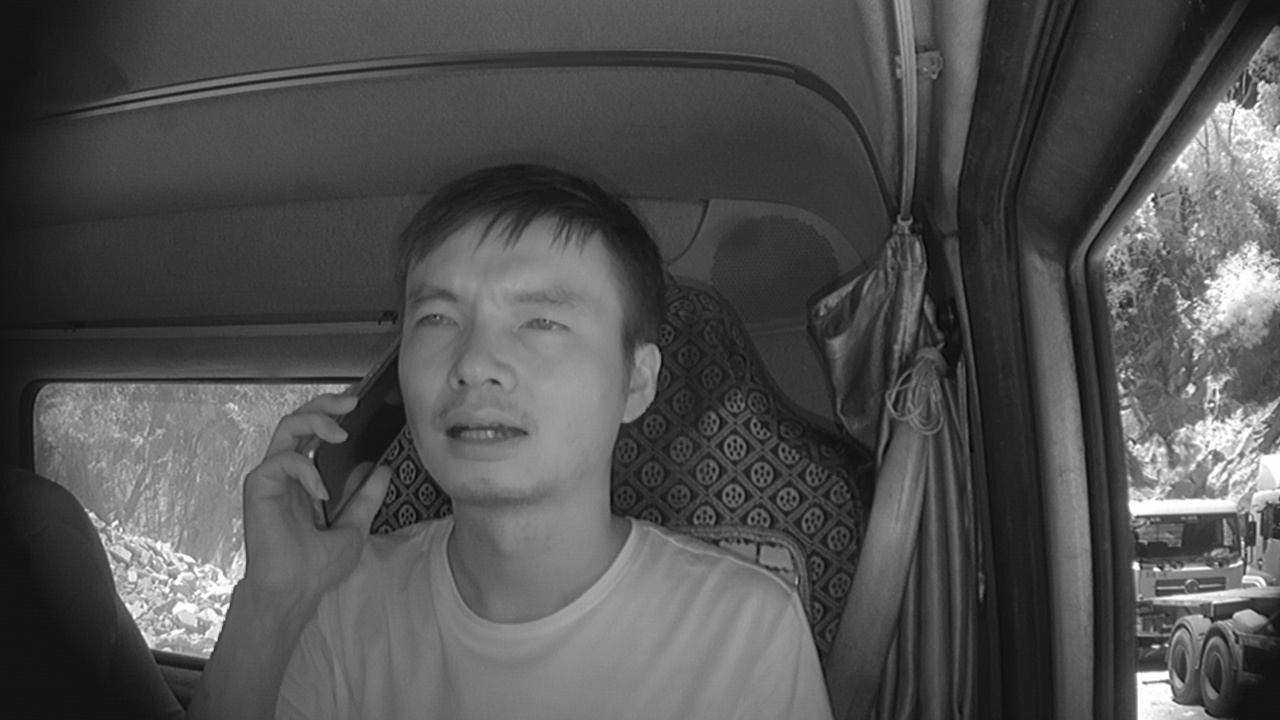hand: (239, 383, 389, 595)
